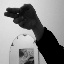h: (3, 3, 38, 30)
